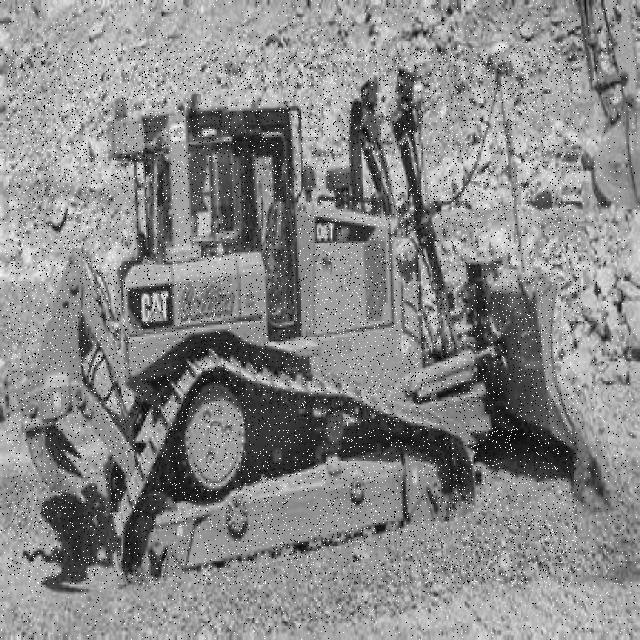Construction Equipment: (7, 48, 579, 584)
